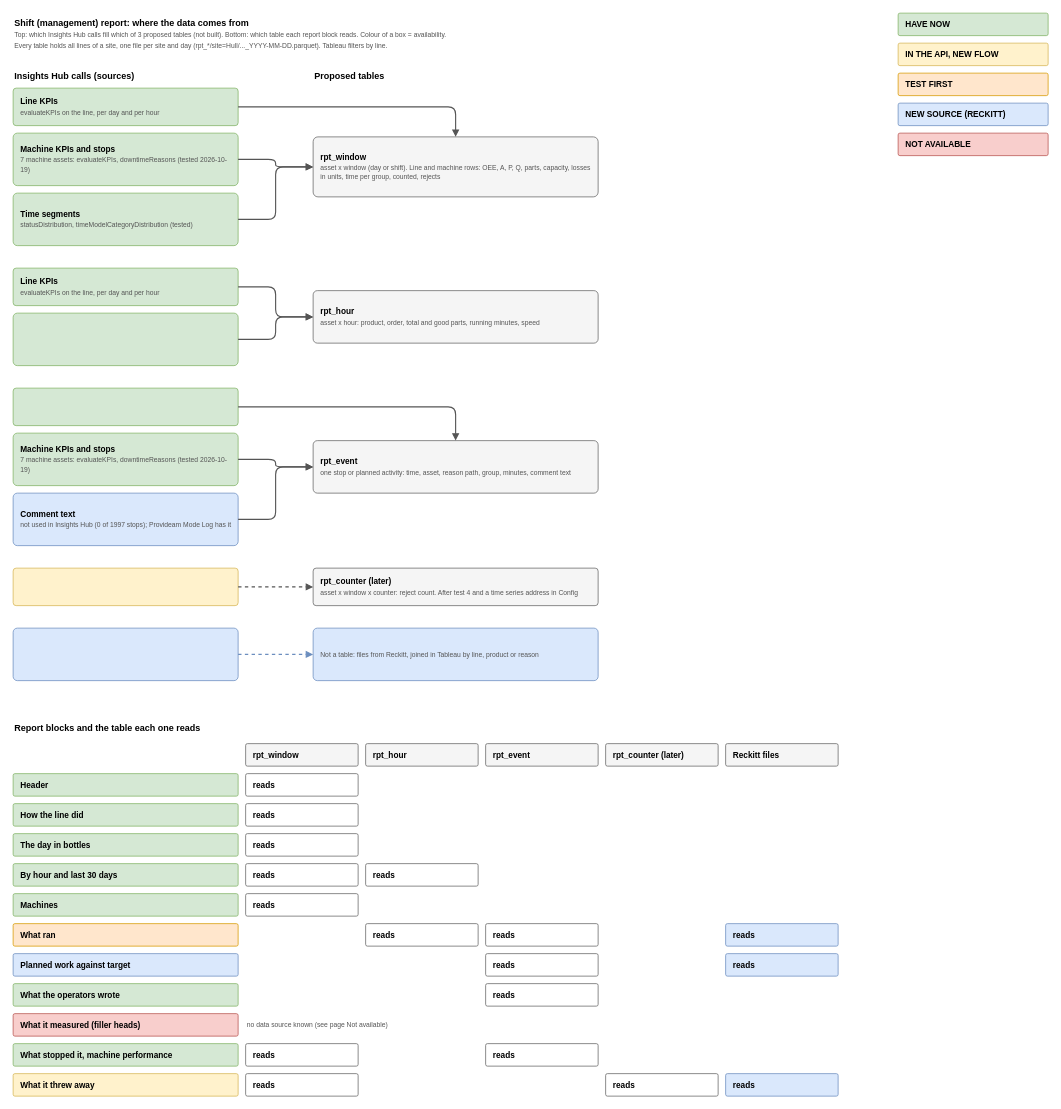
The diagram is 1061 pixels wide and 1109 high, and some of its shapes have lost their labels. The shapes that lost their labels are listed below. From the top down, each one's box as (x1, y1, x2, y2) in pixels, then its label:
(12, 312, 238, 366): Order and product filterValues, filtered hourly KPIs, product collection
(12, 387, 238, 426): Line stops downtimeReasons on the line
(12, 567, 238, 606): Reject counters time series of the filler (cartoner to check)
(12, 627, 238, 681): Reckitt files SAP order quantity, costs, changeover and clean targets
